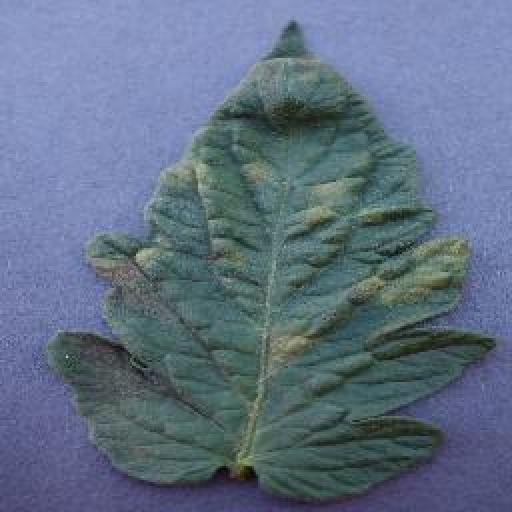Leaf Mold: (46, 20, 499, 509)
